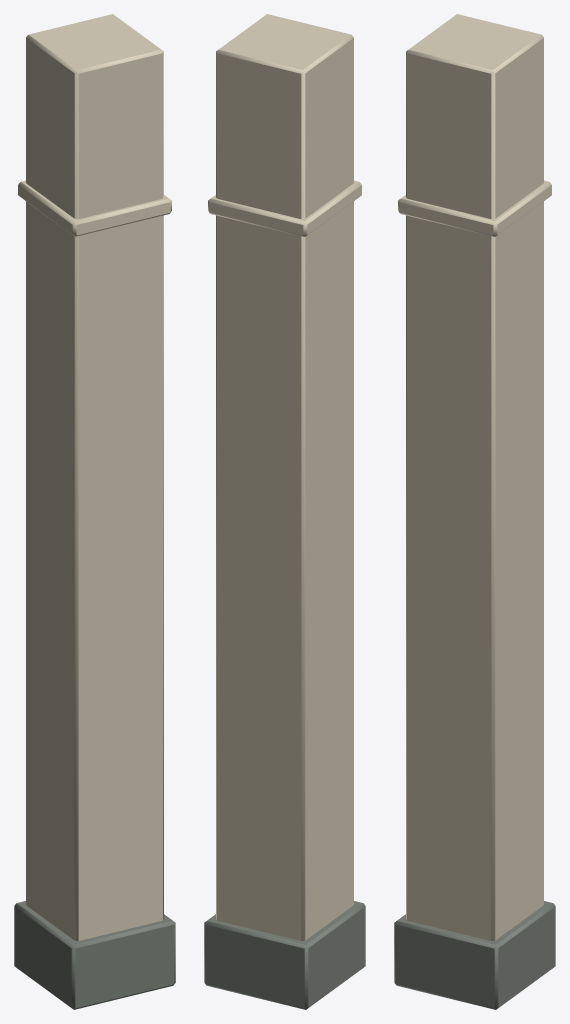
The model's file is pillar.glb.
3 views of the same model, side by side, from view 1: azimuth 30°, elevation 25°; view 2: azimuth 150°, elevation 25°; view 3: azimuth 330°, elevation 25° (orthographic).
Parts seen in each view (by area): view 1: Pillar; view 2: Pillar; view 3: Pillar.
Part boxes in pixels (x1,y1,x2,y2): Pillar: (14,14,175,1009); Pillar: (204,14,365,1009); Pillar: (394,14,555,1009).
Bounding box in the file's own units: 0.42 × 3.6 × 0.42.
